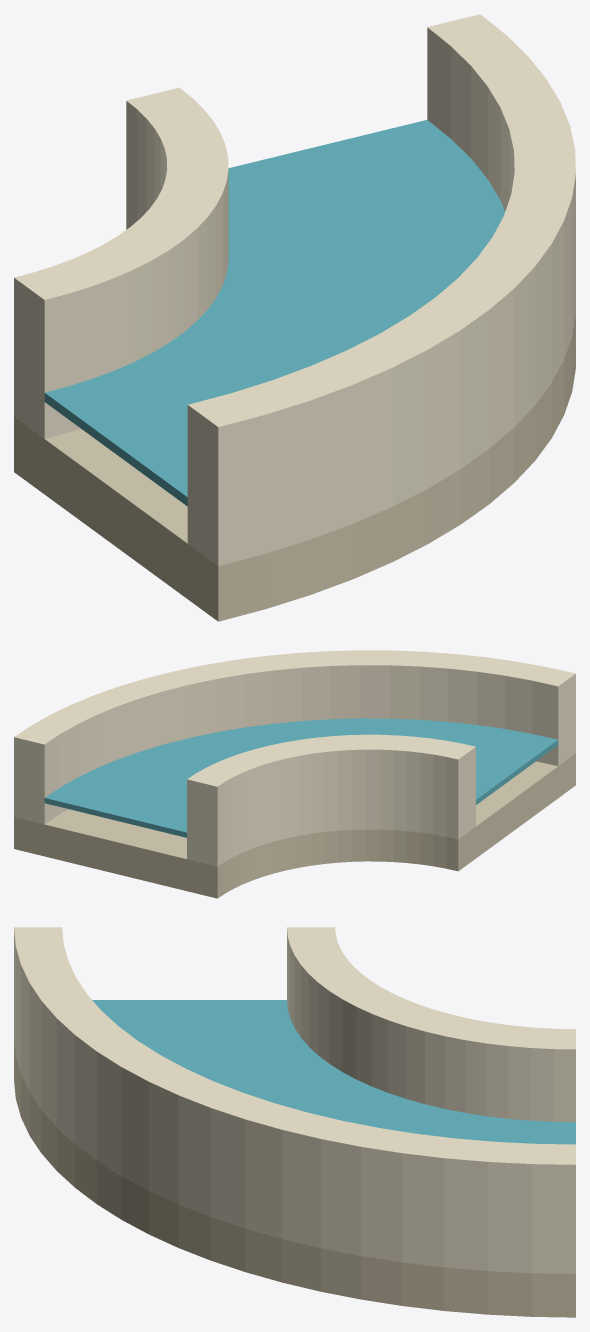
The model's file is fantasy-bathhouse-and-thermal-sanctuary-fantasy-bathho-7b9e65d7__29442.glb.
3 renders of one model, top to bottom at view 1: azimuth 30°, elevation 25°; view 2: azimuth 150°, elevation 25°; view 3: azimuth 270°, elevation 25°, orthographic. The views are drawn at different scales.
Visible parts, largest first — view 1: fantasy-bathhouse-and-thermal-sanctuary-aqueduct-channel-ben (×3); view 2: fantasy-bathhouse-and-thermal-sanctuary-aqueduct-channel-ben (×3); view 3: fantasy-bathhouse-and-thermal-sanctuary-aqueduct-channel-ben (×3).
Boxes of the visible parts, bbox=[...] form: fantasy-bathhouse-and-thermal-sanctuary-aqueduct-channel-ben (×3): bbox=[14, 14, 575, 621]; fantasy-bathhouse-and-thermal-sanctuary-aqueduct-channel-ben (×3): bbox=[14, 650, 575, 898]; fantasy-bathhouse-and-thermal-sanctuary-aqueduct-channel-ben (×3): bbox=[14, 927, 575, 1317].
Size of the model in its own units: 1.4 by 0.42 by 1.4.
